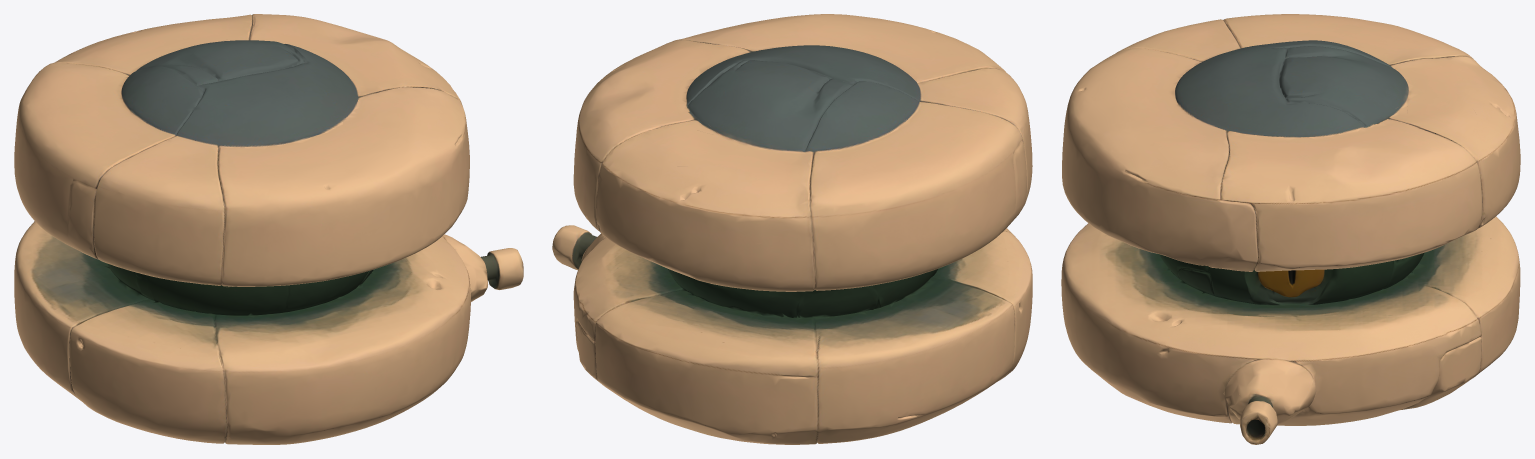
The picture shows the model from 3 angles, left to right: view 1: azimuth 30°, elevation 25°; view 2: azimuth 150°, elevation 25°; view 3: azimuth 270°, elevation 25°; orthographic projection. The views are drawn at different scales.
Parts seen in each view (by area): view 1: tripo_node_e25f40fd-10e8-48c5-8abc-61733fd0cdd1; view 2: tripo_node_e25f40fd-10e8-48c5-8abc-61733fd0cdd1; view 3: tripo_node_e25f40fd-10e8-48c5-8abc-61733fd0cdd1.
Boxes of the visible parts, x1=… form: tripo_node_e25f40fd-10e8-48c5-8abc-61733fd0cdd1: x1=14, y1=14, x2=523, y2=444; tripo_node_e25f40fd-10e8-48c5-8abc-61733fd0cdd1: x1=552, y1=14, x2=1032, y2=444; tripo_node_e25f40fd-10e8-48c5-8abc-61733fd0cdd1: x1=1061, y1=14, x2=1520, y2=444.
Size of the model in its own units: 1 by 0.7116 by 0.9005.
Materials: 1 (1 with a texture image).
